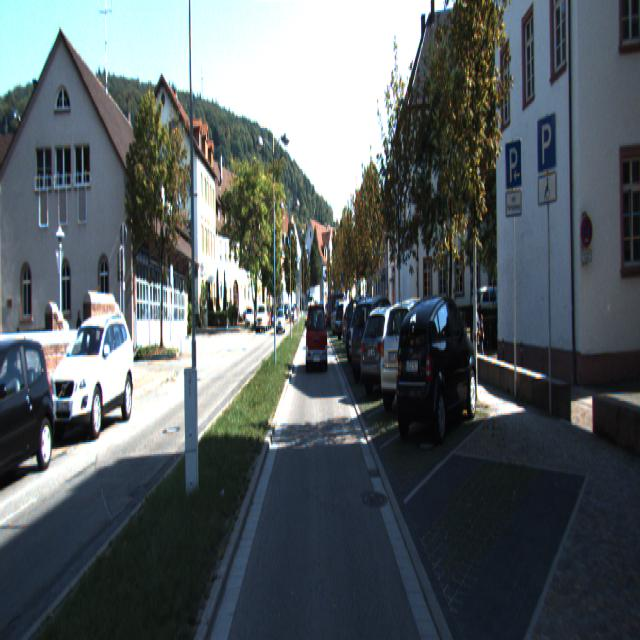Car: (392, 293, 479, 448), (47, 314, 136, 439), (0, 333, 61, 486), (379, 298, 457, 417), (356, 304, 422, 398), (349, 298, 405, 386), (348, 300, 399, 370), (342, 296, 388, 364), (306, 304, 328, 372), (331, 301, 356, 334), (327, 294, 350, 328), (256, 305, 268, 332), (276, 308, 286, 332)
